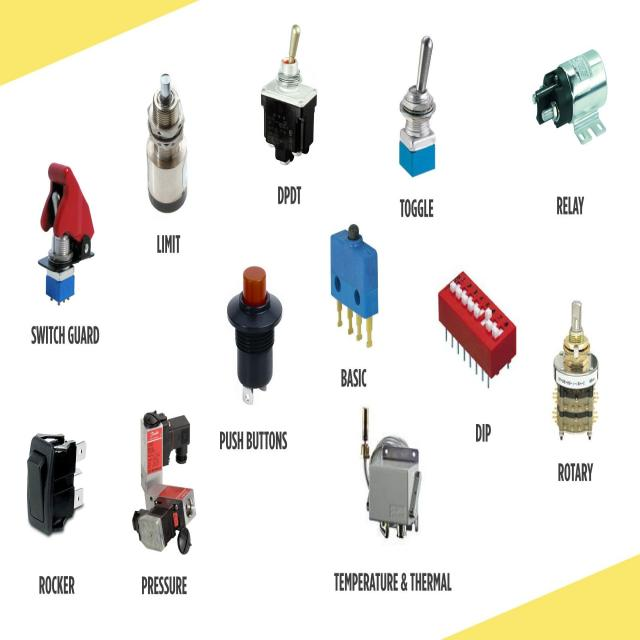Push button: (226, 262, 284, 401)
switch: (434, 269, 519, 399), (132, 413, 198, 556), (37, 162, 96, 304), (263, 24, 319, 166), (529, 47, 610, 145), (361, 407, 420, 540), (551, 300, 600, 445), (26, 430, 86, 536), (146, 72, 188, 219), (400, 35, 438, 177), (338, 223, 380, 348)
